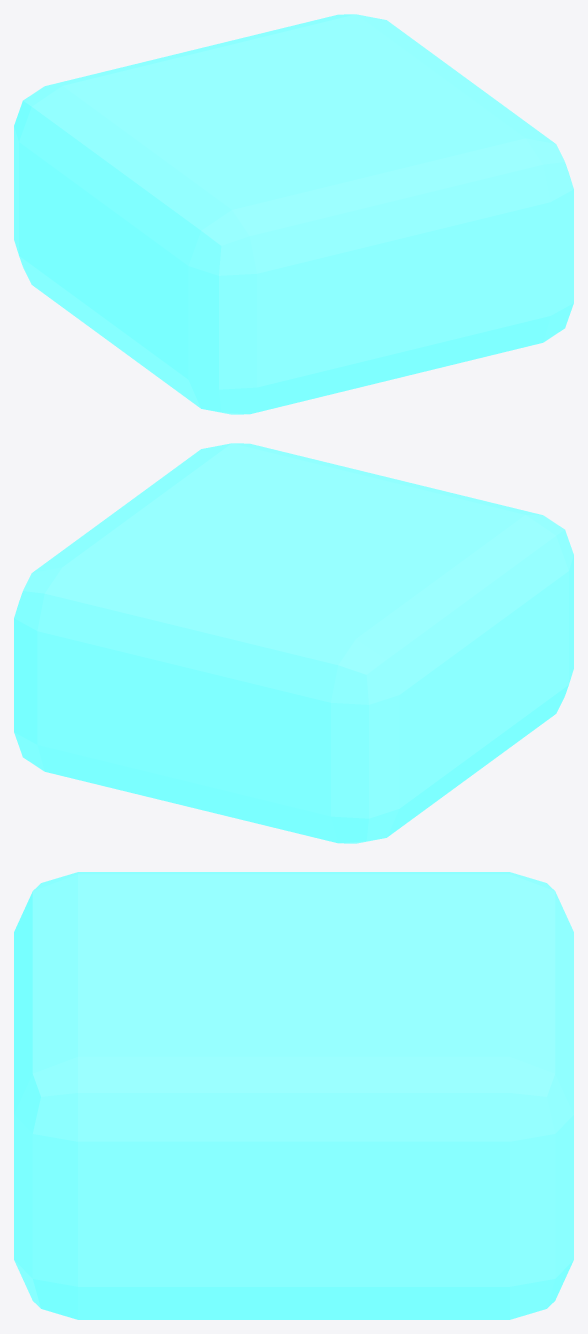
Rendered from SM_Lab_ReactorTerminal__Button_3.fbx.
3 views of the same model, one above another, from view 1: azimuth 30°, elevation 25°; view 2: azimuth 150°, elevation 25°; view 3: azimuth 270°, elevation 25° (orthographic). The views are drawn at different scales.
Visible parts, largest first — view 1: SM_Lab_ReactorTerminal__Button_3; view 2: SM_Lab_ReactorTerminal__Button_3; view 3: SM_Lab_ReactorTerminal__Button_3.
Boxes of the visible parts, <box> form: SM_Lab_ReactorTerminal__Button_3: <box>14,14,573,414</box>; SM_Lab_ReactorTerminal__Button_3: <box>14,443,573,843</box>; SM_Lab_ReactorTerminal__Button_3: <box>14,872,573,1319</box>.
Size of the model in its own units: 3.5 by 3.5 by 1.8.
